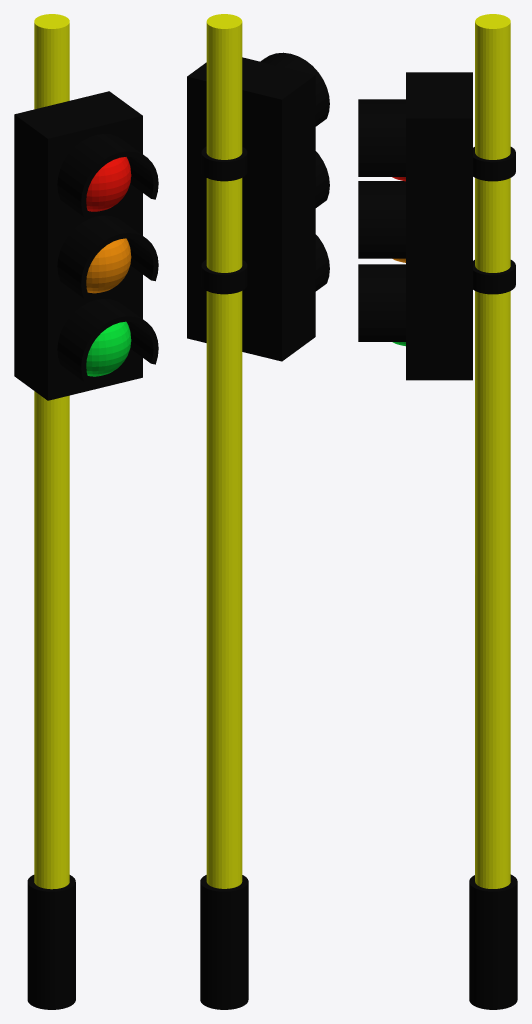
Rendered from Traffic_light_1.fbx.
3 renders of one model, left to right at view 1: azimuth 30°, elevation 25°; view 2: azimuth 150°, elevation 25°; view 3: azimuth 270°, elevation 25°, orthographic.
Visible parts, largest first — view 1: TrafficLightBox, Pole, Cylinder, GreenHat, RedHat, OrangeHat, OrangeLight, GreenLight, RedLight; view 2: Pole, TrafficLightBox, Cylinder, RedHat, Holder2, Holder1, OrangeHat, GreenHat; view 3: Pole, TrafficLightBox, Cylinder, RedHat, OrangeHat, GreenHat, Holder2, Holder1.
Boxes of the visible parts, <box> form: TrafficLightBox: <box>14,91,142,400</box>; Pole: <box>34,14,69,889</box>; Cylinder: <box>27,875,75,1009</box>; GreenHat: <box>57,299,158,381</box>; RedHat: <box>57,134,158,216</box>; OrangeHat: <box>57,215,158,298</box>; OrangeLight: <box>86,238,131,293</box>; GreenLight: <box>86,321,131,376</box>; RedLight: <box>86,157,131,211</box>; Pole: <box>206,14,242,888</box>; TrafficLightBox: <box>187,57,315,361</box>; Cylinder: <box>200,875,248,1009</box>; RedHat: <box>260,52,329,126</box>; Holder2: <box>201,259,247,294</box>; Holder1: <box>201,146,247,181</box>; OrangeHat: <box>315,151,329,207</box>; GreenHat: <box>315,234,329,291</box>; Pole: <box>475,14,510,888</box>; TrafficLightBox: <box>406,72,472,380</box>; Cylinder: <box>469,874,517,1009</box>; RedHat: <box>358,99,405,176</box>; OrangeHat: <box>358,181,405,258</box>; GreenHat: <box>358,264,405,341</box>; Holder2: <box>473,260,515,294</box>; Holder1: <box>473,147,515,181</box>.
Size of the model in its own units: 39.81 by 392 by 57.77.
